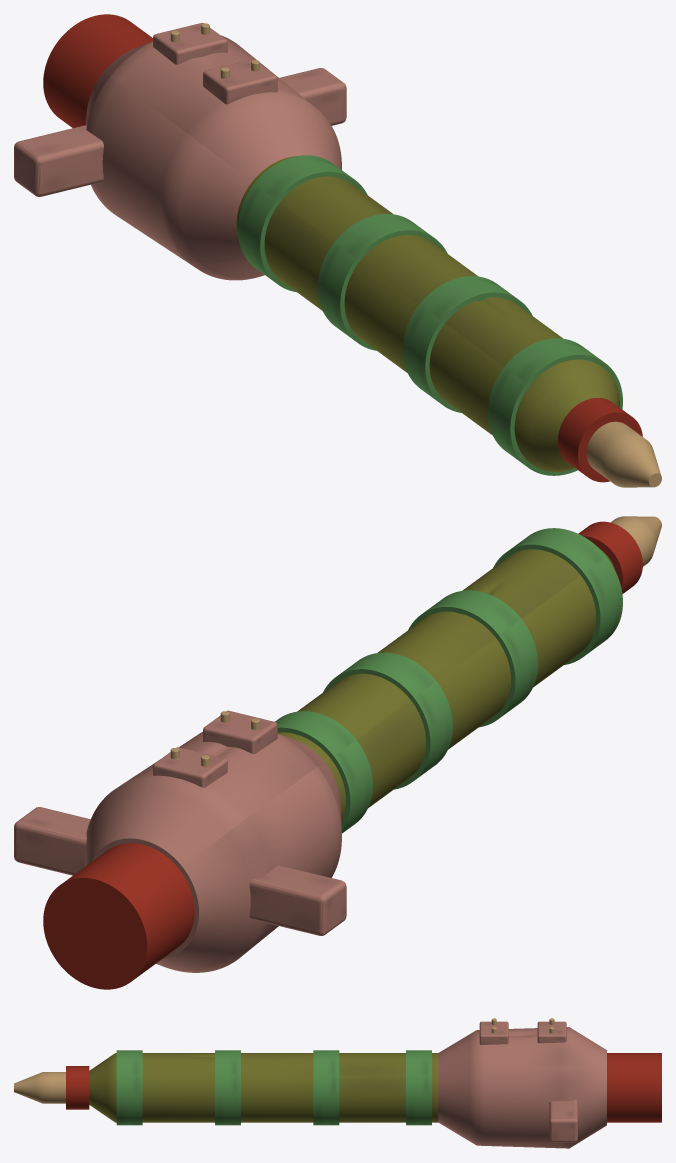
The picture shows the model from 3 angles, top to bottom: view 1: azimuth 30°, elevation 25°; view 2: azimuth 150°, elevation 25°; view 3: azimuth 270°, elevation 25°; orthographic projection. The views are drawn at different scales.
Visible parts, largest first — view 1: Achaean Ground Maker shoulder, Achaean Ground Maker shaft, Achaean Ground Maker rear, Achaean Ground Maker lateral shoulder 0, Achaean Ground Maker shaft band 0, Achaean Ground Maker shaft band 1, Achaean Ground Maker shaft band 3, Achaean Ground Maker shaft band 2, Achaean Ground Maker tip, Achaean Ground Maker red tip collar, Achaean Ground Maker lateral shoulder 1, Achaean Ground Maker service cover 0 (+1 smaller); view 2: Achaean Ground Maker shoulder, Achaean Ground Maker shaft, Achaean Ground Maker rear, Achaean Ground Maker lateral shoulder 0, Achaean Ground Maker shaft band 0, Achaean Ground Maker shaft band 1, Achaean Ground Maker shaft band 2, Achaean Ground Maker shaft band 3, Achaean Ground Maker lateral shoulder 1, Achaean Ground Maker red tip collar, Achaean Ground Maker service cover 0, Achaean Ground Maker service cover 1 (+1 smaller); view 3: Achaean Ground Maker shaft, Achaean Ground Maker shoulder, Achaean Ground Maker rear, Achaean Ground Maker shaft band 0, Achaean Ground Maker shaft band 2, Achaean Ground Maker shaft band 1, Achaean Ground Maker shaft band 3, Achaean Ground Maker tip, Achaean Ground Maker lateral shoulder 1, Achaean Ground Maker red tip collar, Achaean Ground Maker service cover 0, Achaean Ground Maker service cover 1.
Part boxes in pixels (x1,y1,x2,y2): Achaean Ground Maker shoulder: (86,35,341,280); Achaean Ground Maker shaft: (236,156,619,471); Achaean Ground Maker rear: (43,14,152,127); Achaean Ground Maker lateral shoulder 0: (14,125,103,196); Achaean Ground Maker shaft band 0: (488,338,622,475); Achaean Ground Maker shaft band 1: (403,276,532,412); Achaean Ground Maker shaft band 3: (237,155,367,291); Achaean Ground Maker shaft band 2: (317,214,447,350); Achaean Ground Maker tip: (586,421,661,487); Achaean Ground Maker red tip collar: (558,398,642,482); Achaean Ground Maker lateral shoulder 1: (279,68,346,125); Achaean Ground Maker service cover 0: (203,59,277,104); Achaean Ground Maker shoulder: (84,732,341,972); Achaean Ground Maker shaft: (277,549,614,821); Achaean Ground Maker rear: (43,843,194,989); Achaean Ground Maker lateral shoulder 0: (249,865,346,935); Achaean Ground Maker shaft band 0: (493,528,622,664); Achaean Ground Maker shaft band 1: (408,590,537,727); Achaean Ground Maker shaft band 2: (323,652,452,789); Achaean Ground Maker shaft band 3: (275,711,372,833); Achaean Ground Maker lateral shoulder 1: (14,807,90,875); Achaean Ground Maker red tip collar: (578,521,642,593); Achaean Ground Maker service cover 0: (203,710,277,753); Achaean Ground Maker service cover 1: (153,747,227,787); Achaean Ground Maker shaft: (89,1053,438,1122); Achaean Ground Maker shoulder: (438,1027,606,1148); Achaean Ground Maker rear: (607,1053,661,1122); Achaean Ground Maker shaft band 0: (116,1050,142,1125); Achaean Ground Maker shaft band 2: (313,1050,339,1125); Achaean Ground Maker shaft band 1: (215,1050,240,1125); Achaean Ground Maker shaft band 3: (406,1050,431,1125); Achaean Ground Maker tip: (14,1072,65,1103); Achaean Ground Maker lateral shoulder 1: (549,1099,577,1142); Achaean Ground Maker red tip collar: (66,1066,89,1109); Achaean Ground Maker service cover 0: (479,1021,508,1044); Achaean Ground Maker service cover 1: (537,1021,566,1043).
Bounding box in the file's own units: 0.72 × 0.455 × 2.24.
5 materials, 3 textured.
